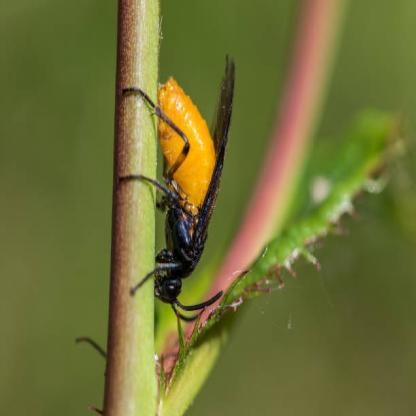sawfly: (117, 50, 241, 331)
